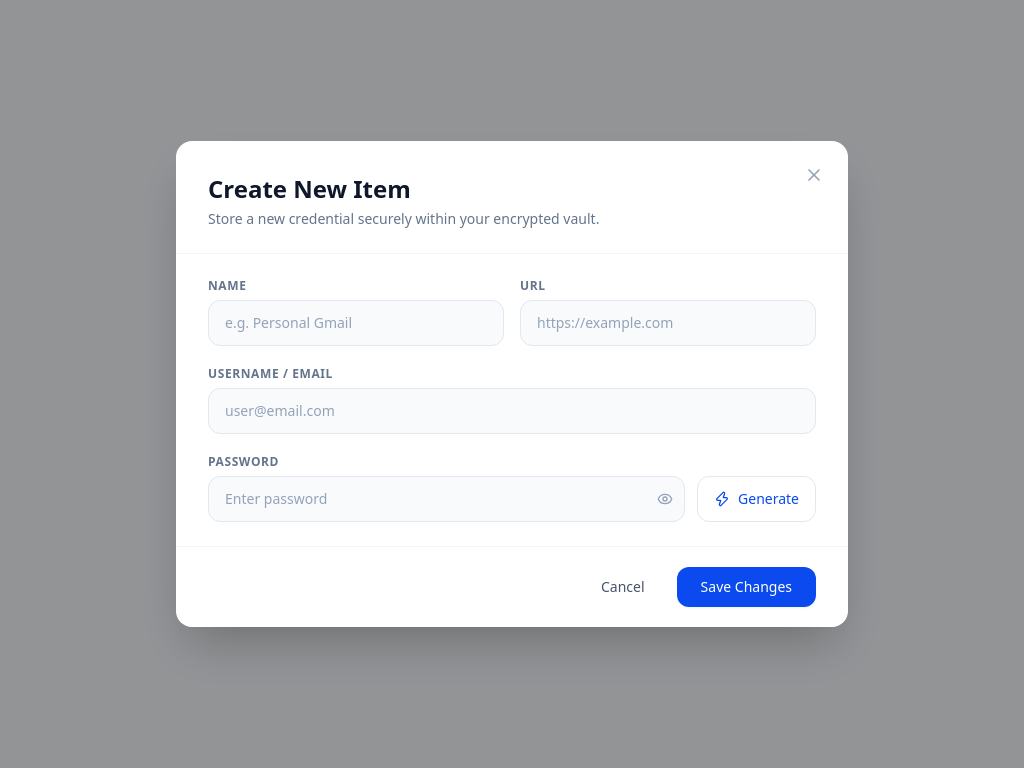
VaultItem Form (TC-02) › shows error if title is empty when saving
# Click save without filling anything
Step 1. Click the button "Save Changes" → (746, 587), box x1=677 y1=567 x2=816 y2=607
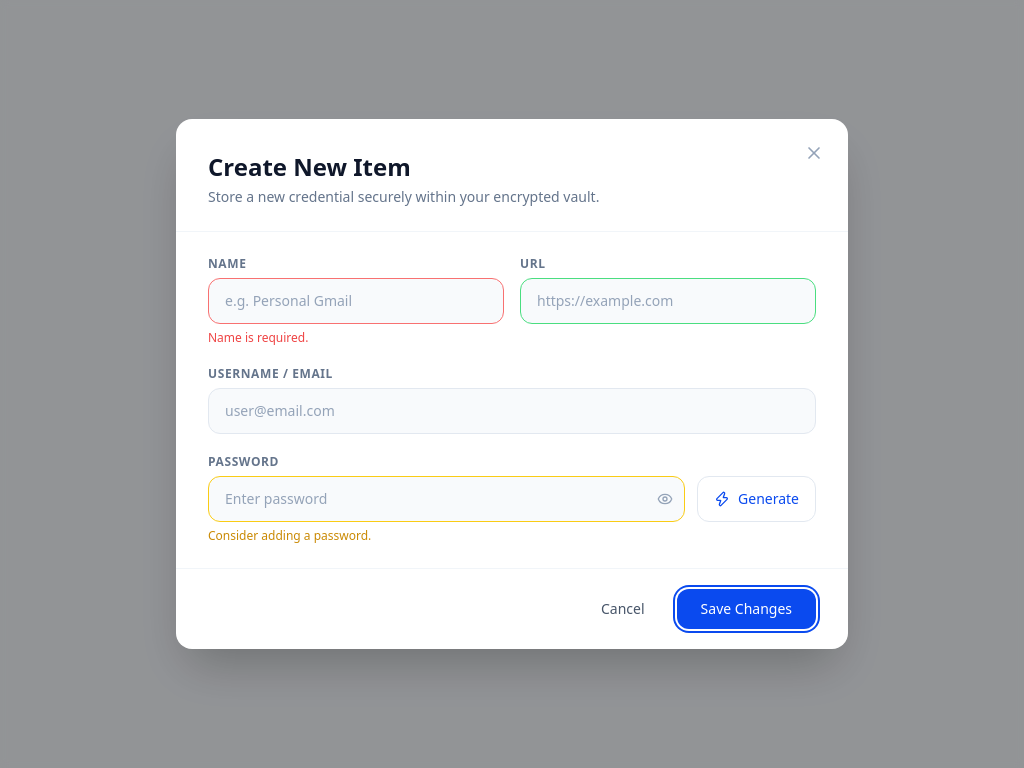
Expected: the text "Name is required." is shown, x1=208 y1=329 x2=308 y2=346
